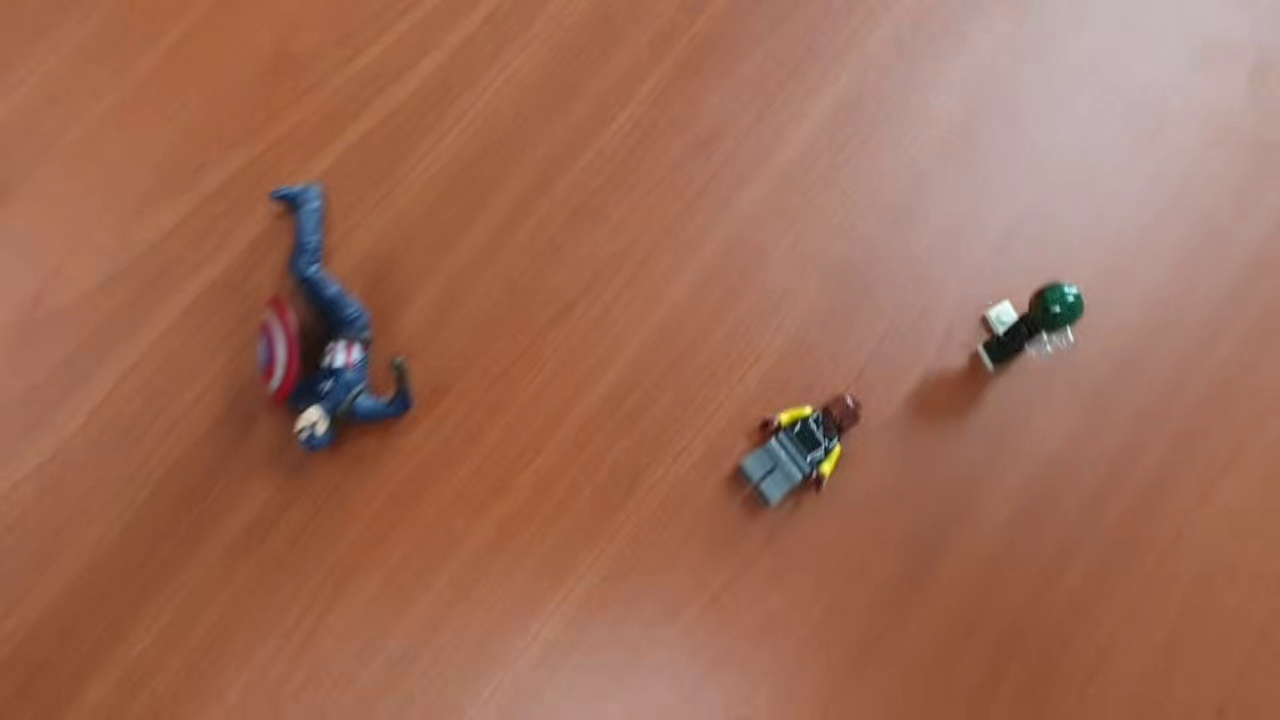people: (252, 184, 418, 457), (737, 394, 859, 511), (976, 281, 1086, 380)
